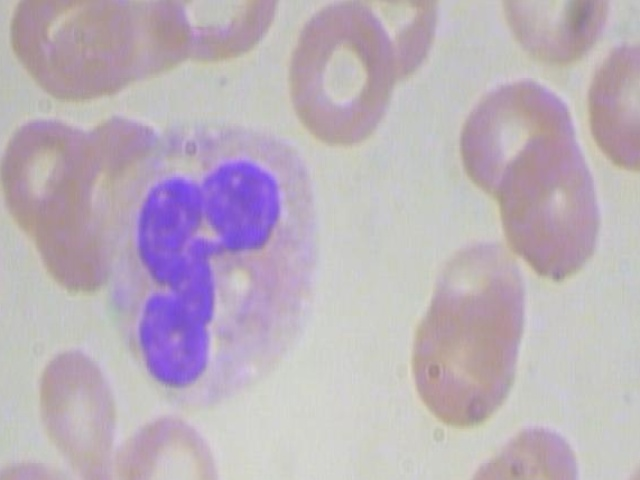RBC: (477, 129, 612, 282), (400, 282, 535, 435), (269, 0, 404, 151), (1, 0, 136, 104), (33, 341, 123, 480), (566, 31, 640, 179), (484, 0, 619, 64), (103, 413, 230, 480), (423, 435, 559, 480), (331, 0, 462, 15)
WBC: (94, 119, 339, 415)
